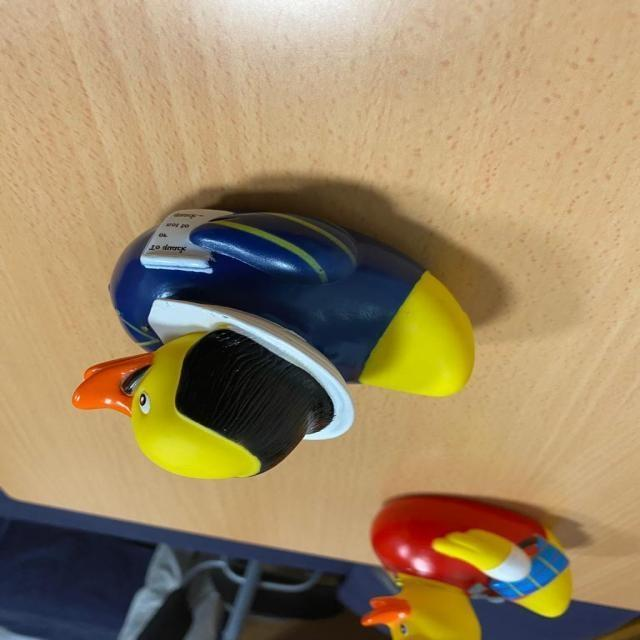rubber-duck: (72, 208, 472, 476), (361, 494, 570, 638)
